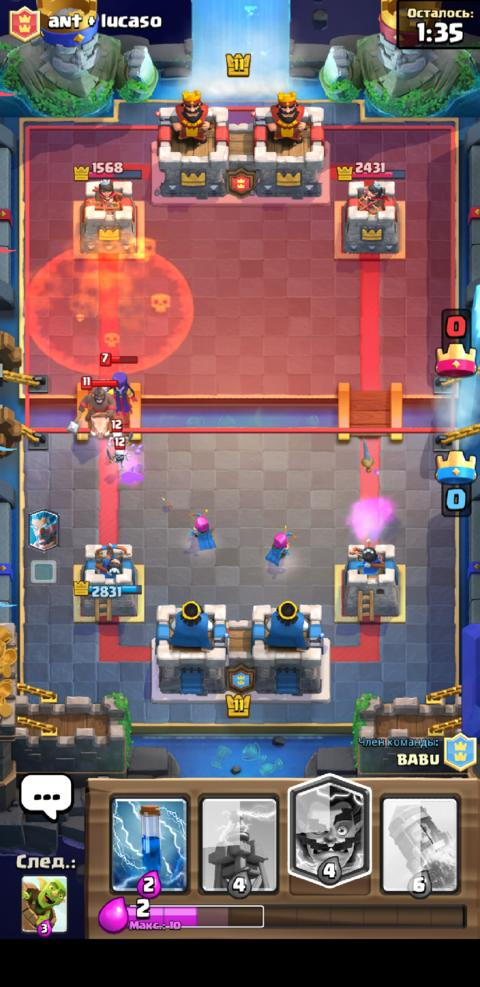ally_archer: (264, 524, 297, 565), (186, 508, 216, 550)
enemy_hog_rider: (65, 375, 116, 437)
enemy_skeleton: (105, 435, 130, 471), (103, 418, 122, 445)
enemy_witch: (98, 352, 139, 416)
